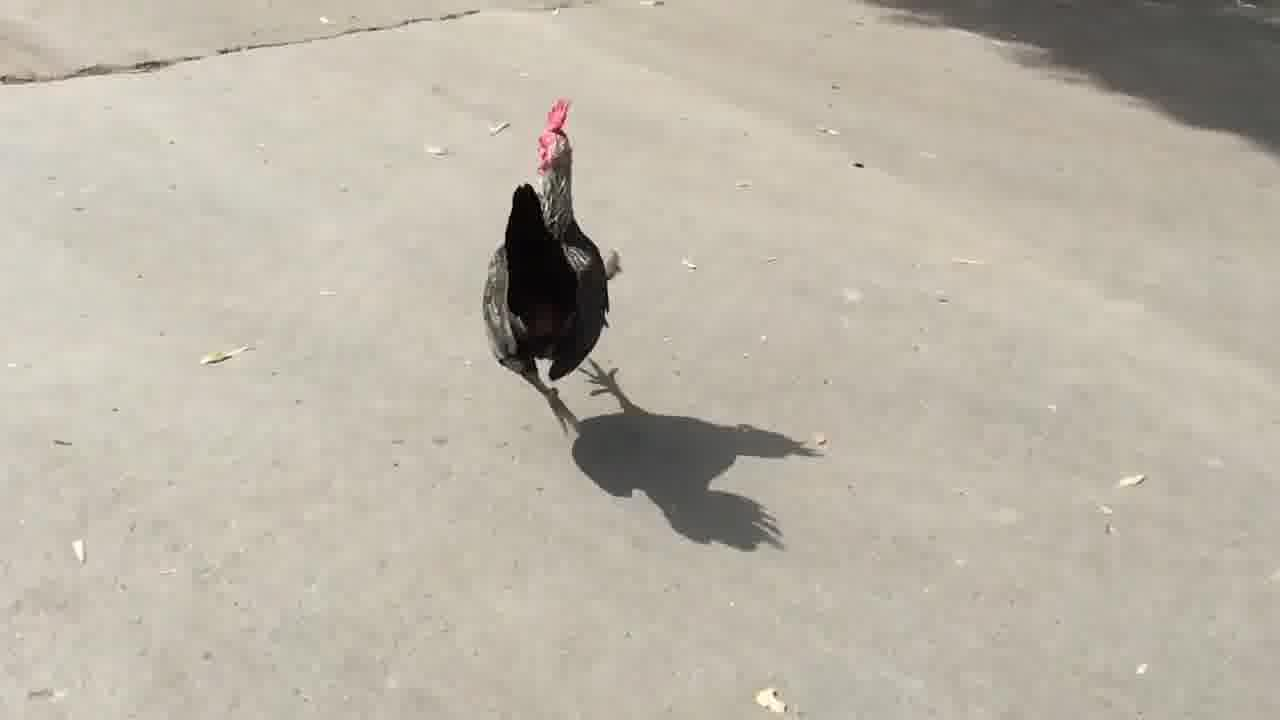Normal: (450, 84, 674, 446)
